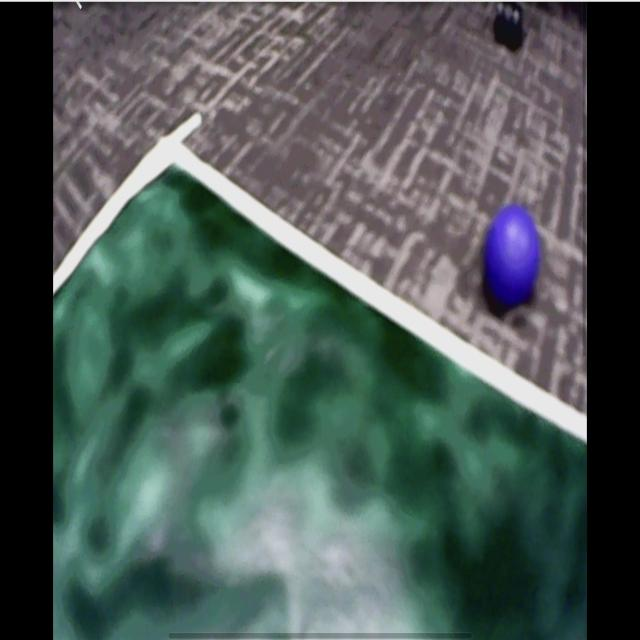ball: (489, 210, 541, 303)
